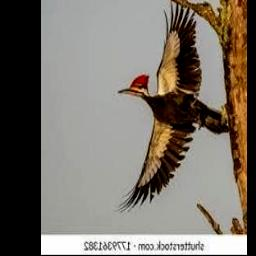Woodpecker: (115, 0, 231, 216)
